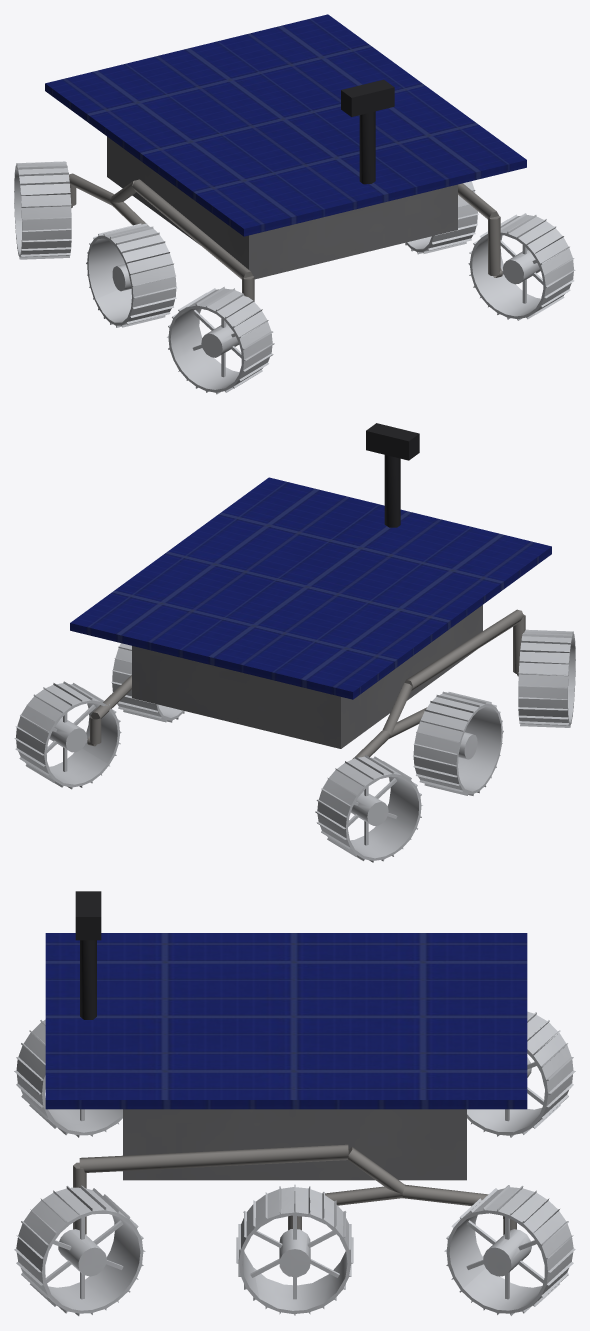
The model's file is rover00_micro_rover_steer_left.glb.
3 renders of one model, top to bottom at view 1: azimuth 30°, elevation 25°; view 2: azimuth 150°, elevation 25°; view 3: azimuth 270°, elevation 25°, orthographic. The views are drawn at different scales.
Parts seen in each view (by area): view 1: solar_panel, body_web, wheel_4, wheel_5, wheel_1, wheel_6, rocker_bogie, mast_camera, wheel_2; view 2: solar_panel, body_web, wheel_6, wheel_5, wheel_3, wheel_4, rocker_bogie, mast_camera, wheel_2; view 3: solar_panel, body_web, wheel_1, wheel_3, wheel_2, rocker_bogie, wheel_6, wheel_4, mast_camera.
Part boxes in pixels (x1,y1,x2,y2): solar_panel: [45, 14, 526, 236]; body_web: [107, 136, 457, 279]; wheel_4: [167, 286, 274, 394]; wheel_5: [86, 223, 176, 327]; wheel_1: [468, 213, 575, 320]; wheel_6: [14, 161, 71, 259]; rocker_bogie: [69, 173, 502, 301]; mast_camera: [341, 79, 394, 184]; wheel_2: [405, 181, 478, 254]; solar_panel: [70, 477, 551, 699]; body_web: [132, 605, 482, 748]; wheel_6: [315, 755, 422, 862]; wheel_5: [413, 691, 503, 795]; wheel_3: [14, 681, 121, 789]; wheel_4: [518, 629, 575, 727]; rocker_bogie: [87, 609, 525, 759]; mast_camera: [366, 423, 419, 527]; wheel_2: [111, 643, 184, 722]; solar_panel: [45, 933, 527, 1109]; body_web: [123, 1109, 466, 1180]; wheel_1: [14, 1185, 145, 1316]; wheel_3: [444, 1185, 575, 1315]; wheel_2: [236, 1184, 353, 1315]; rocker_bogie: [73, 1144, 516, 1234]; wheel_6: [467, 1011, 575, 1137]; wheel_4: [14, 1019, 122, 1137]; mast_camera: [75, 891, 101, 1019].
Size of the model in its own units: 0.6111 by 0.3983 by 0.6533.
5 materials, 4 textured.
